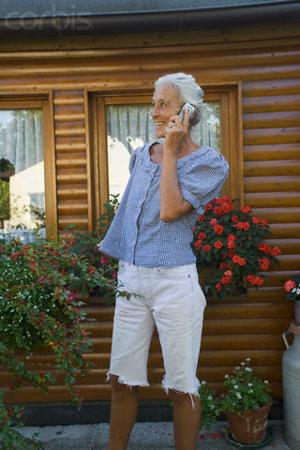person: (99, 69, 229, 450)
